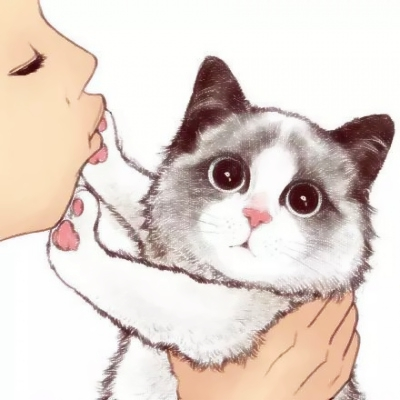cat: (147, 67, 392, 313)
